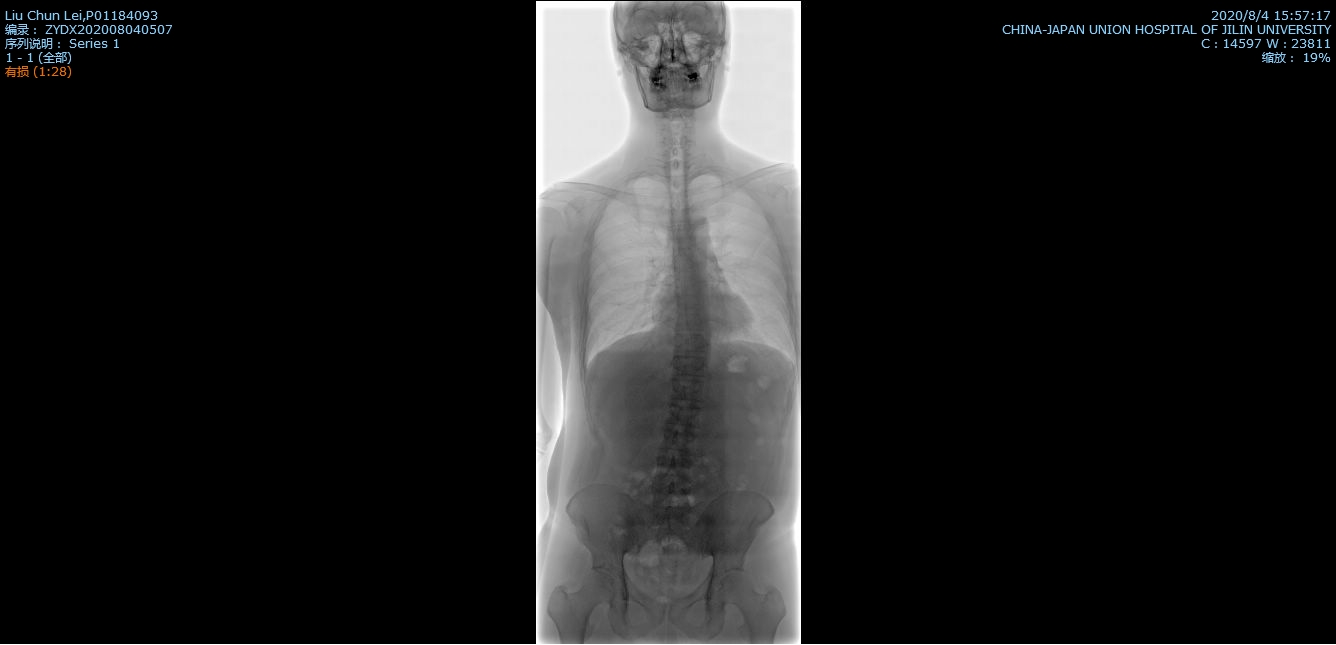Bone: (652, 473, 690, 493), (657, 448, 691, 467), (673, 357, 702, 376), (664, 426, 694, 444), (674, 381, 702, 399), (674, 336, 704, 352), (671, 405, 699, 422), (677, 317, 703, 331), (680, 301, 704, 315)
